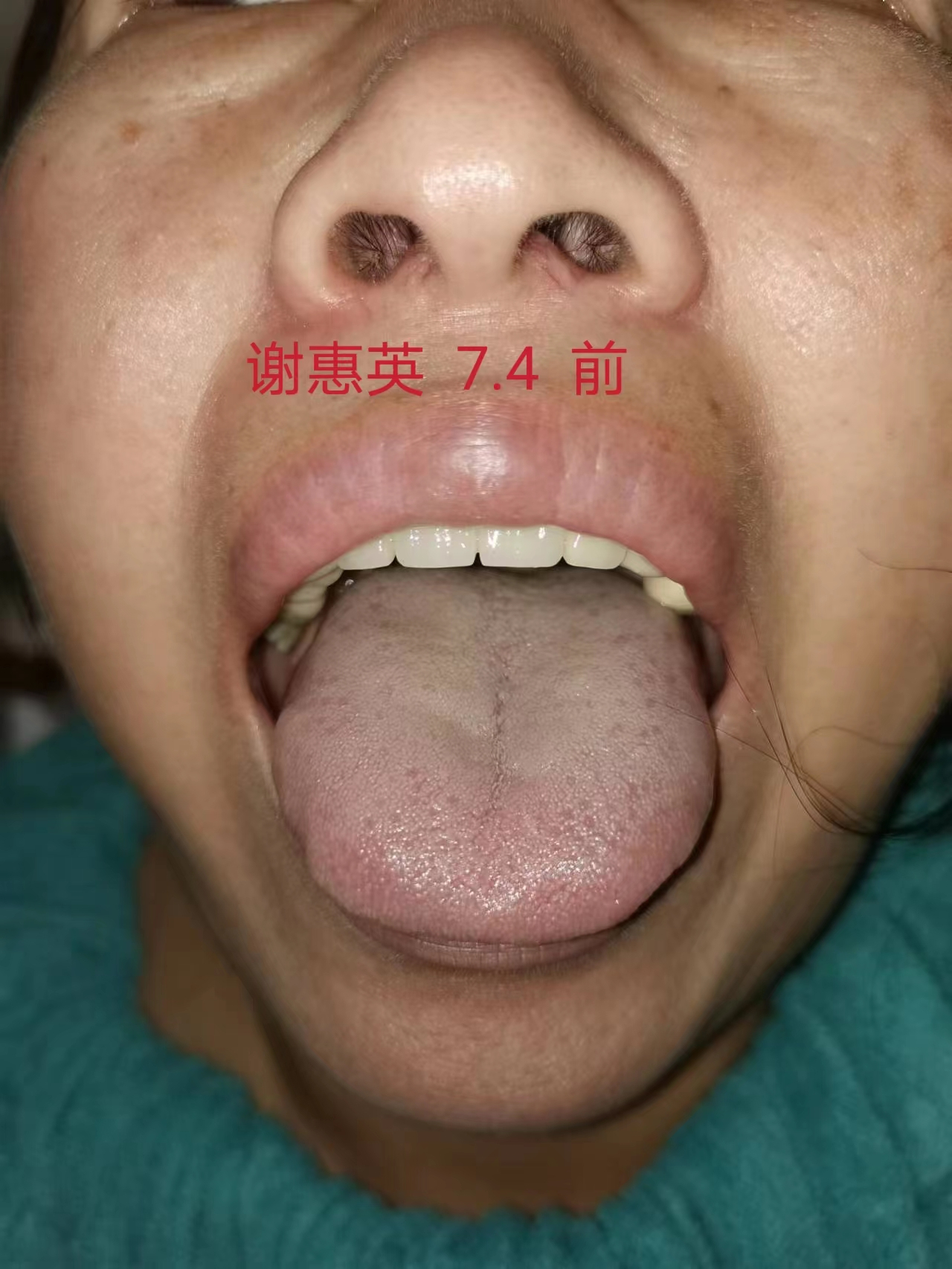baitaishe: (273, 568, 718, 944)
hongdianshe: (306, 686, 680, 845)
liewenshe: (486, 675, 519, 787)
